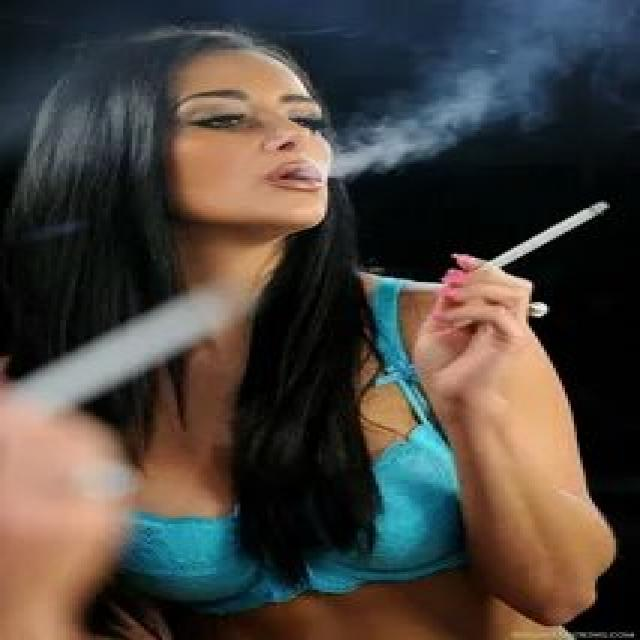smoke: (463, 196, 634, 286)
